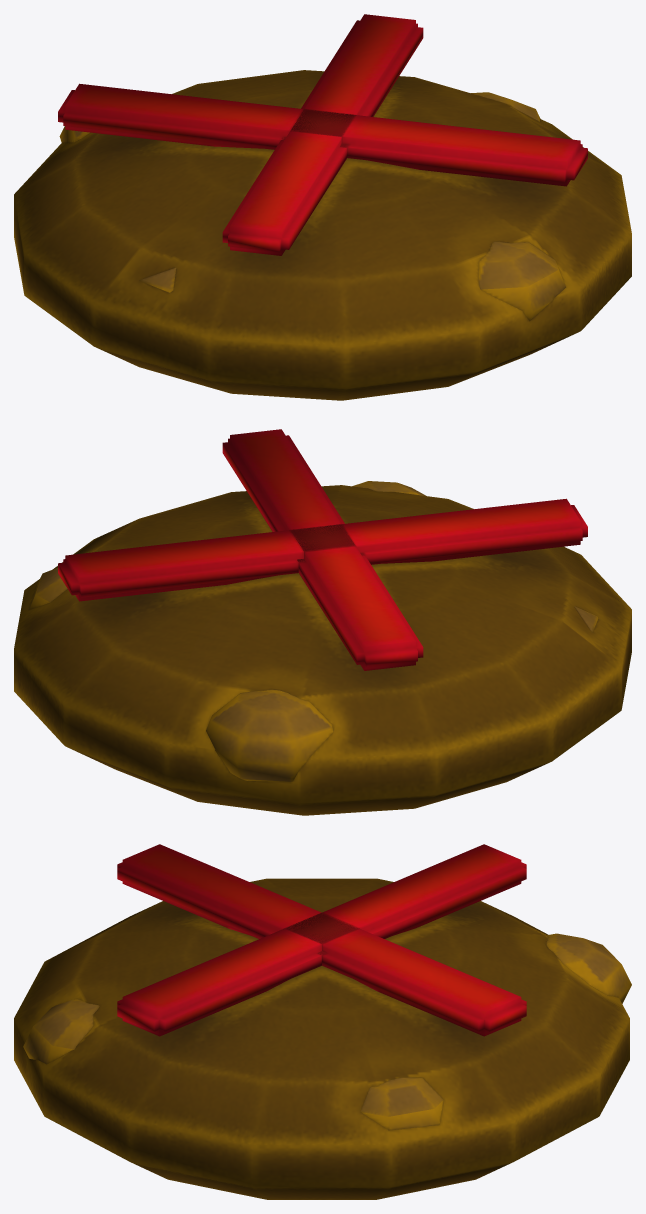
The model's file is DigSpot.fbx.
The picture shows the model from 3 angles, top to bottom: view 1: azimuth 30°, elevation 25°; view 2: azimuth 150°, elevation 25°; view 3: azimuth 270°, elevation 25°; orthographic projection.
Visible parts, largest first — view 1: DigSpot; view 2: DigSpot; view 3: DigSpot.
Boxes of the visible parts, x1=… form: DigSpot: x1=14, y1=14, x2=631, y2=400; DigSpot: x1=14, y1=429, x2=631, y2=815; DigSpot: x1=14, y1=844, x2=631, y2=1199.
Size of the model in its own units: 0.7984 by 0.3011 by 0.8217.
